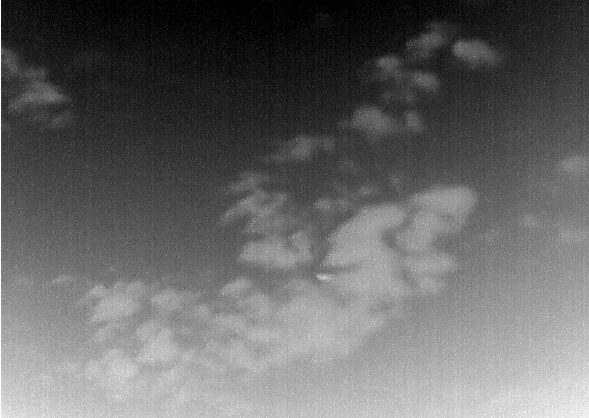dim target: (317, 274, 329, 280)
